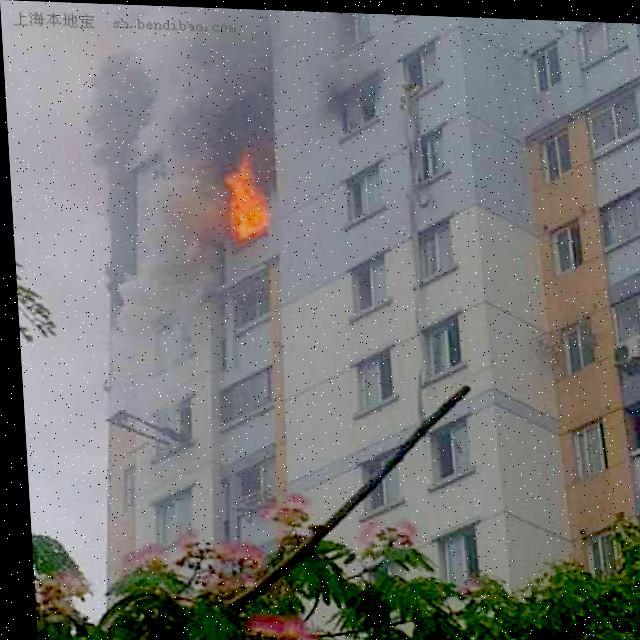Fire: (212, 157, 280, 246)
